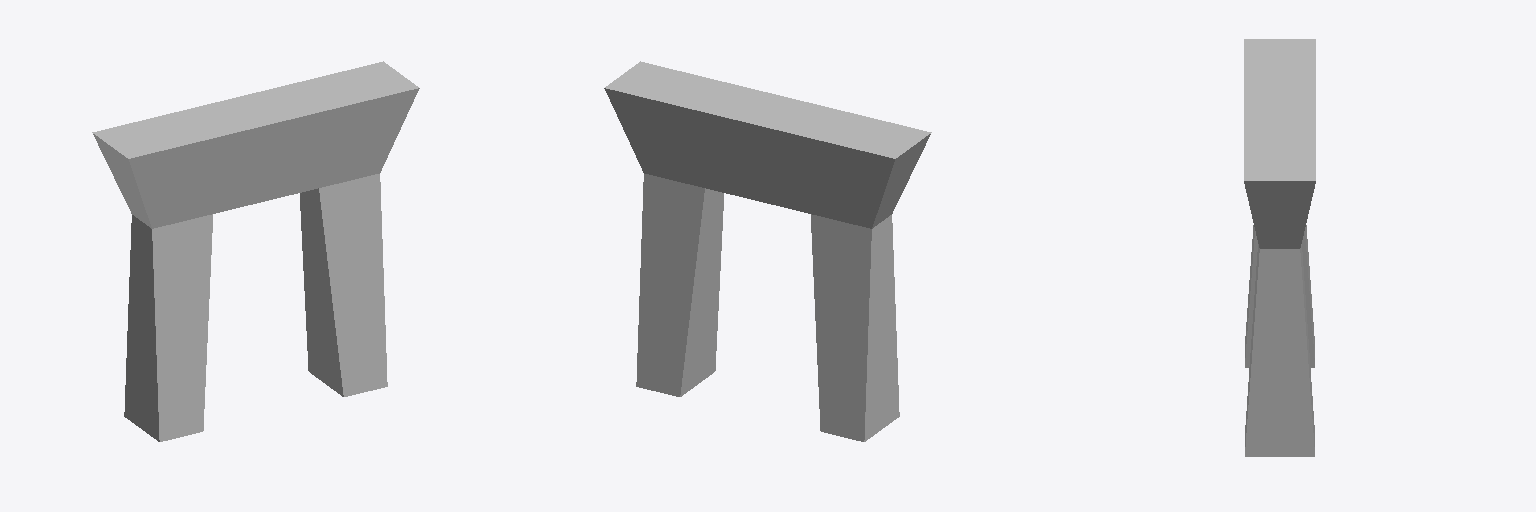
The model's file is portail.obj.
The picture shows the model from 3 angles: view 1: azimuth 30°, elevation 25°; view 2: azimuth 150°, elevation 25°; view 3: azimuth 270°, elevation 25°; orthographic projection.
Visible parts, largest first — view 1: Portail_Cube.001; view 2: Portail_Cube.001; view 3: Portail_Cube.001.
Part boxes in pixels (x1,y1,x2,y2): Portail_Cube.001: (92, 61, 419, 441); Portail_Cube.001: (604, 61, 931, 441); Portail_Cube.001: (1244, 39, 1315, 456).
Bounding box in the file's own units: 3.98 × 3.81 × 0.8568.